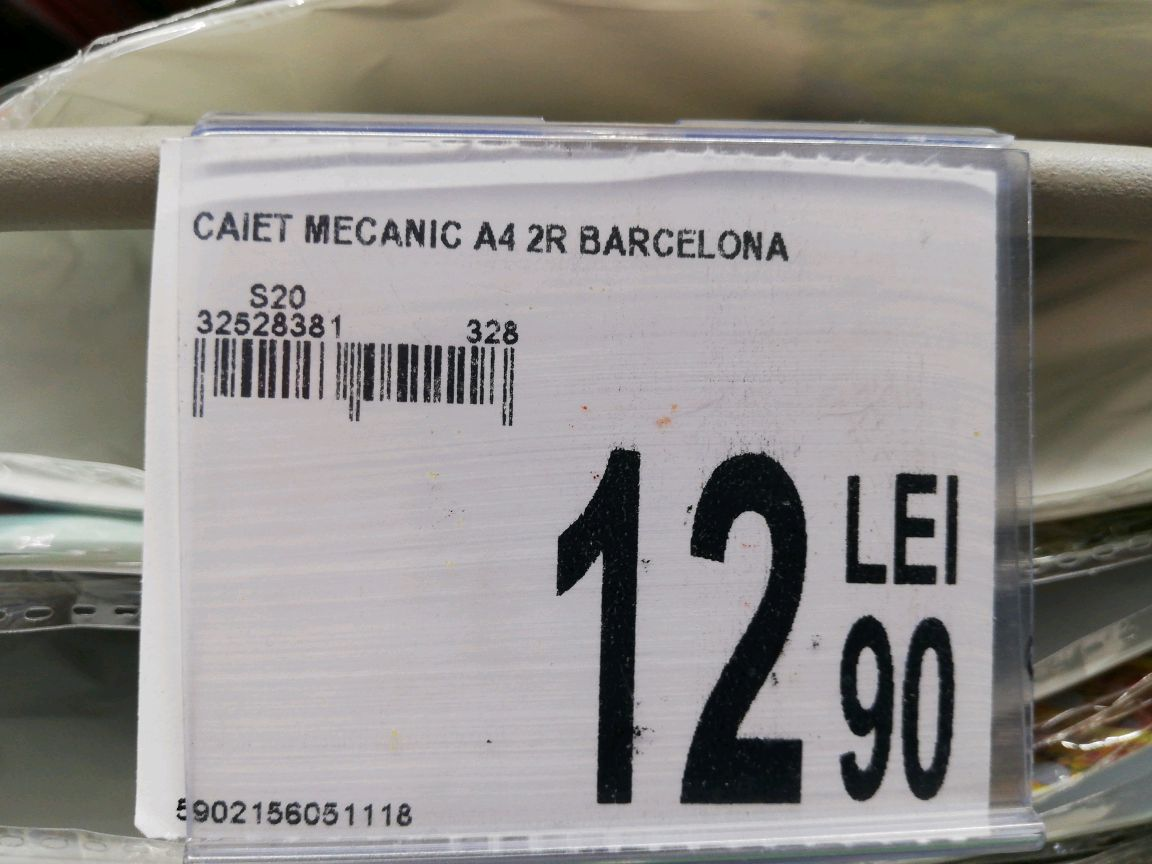price_bani: (826, 610, 963, 815)
price_lei: (537, 431, 818, 817)
price_tag: (124, 133, 1017, 845)
product_id: (164, 788, 431, 836)
product_name: (172, 199, 811, 268)
